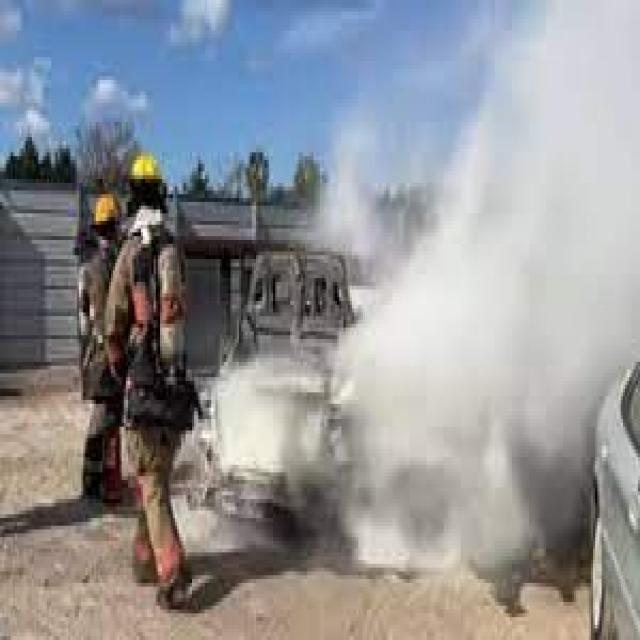smoke: (337, 4, 640, 552), (209, 350, 337, 526), (294, 114, 388, 248)
